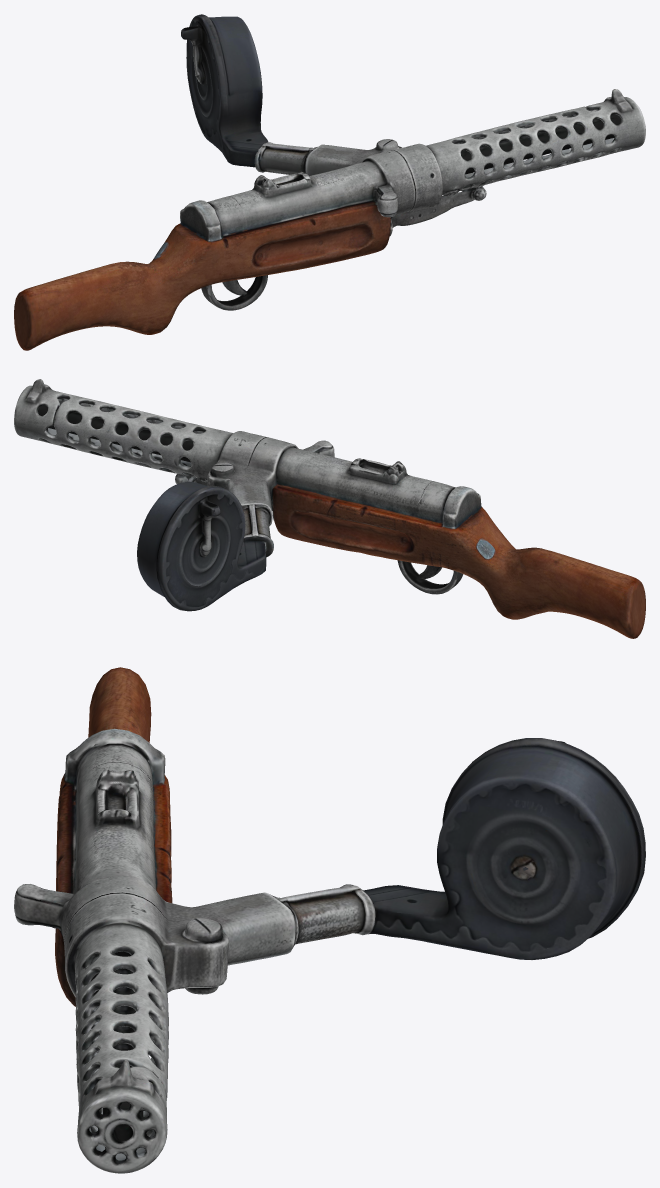
3 views of the same model, one above another, from view 1: azimuth 30°, elevation 25°; view 2: azimuth 150°, elevation 25°; view 3: azimuth 270°, elevation 25° (orthographic). The views are drawn at different scales.
Parts seen in each view (by area): view 1: Body, Drum; view 2: Body, Drum; view 3: Body, Drum.
Boxes of the visible parts, box(x1,y1,x2,y2) form: Body: box(14, 89, 645, 350); Drum: box(181, 14, 309, 174); Body: box(14, 379, 645, 638); Drum: box(137, 481, 273, 611); Body: box(14, 667, 300, 1173); Drum: box(285, 738, 645, 959).
Size of the model in its own units: 0.824 by 0.2248 by 0.4337.
Materials: 2 (1 with a texture image).
